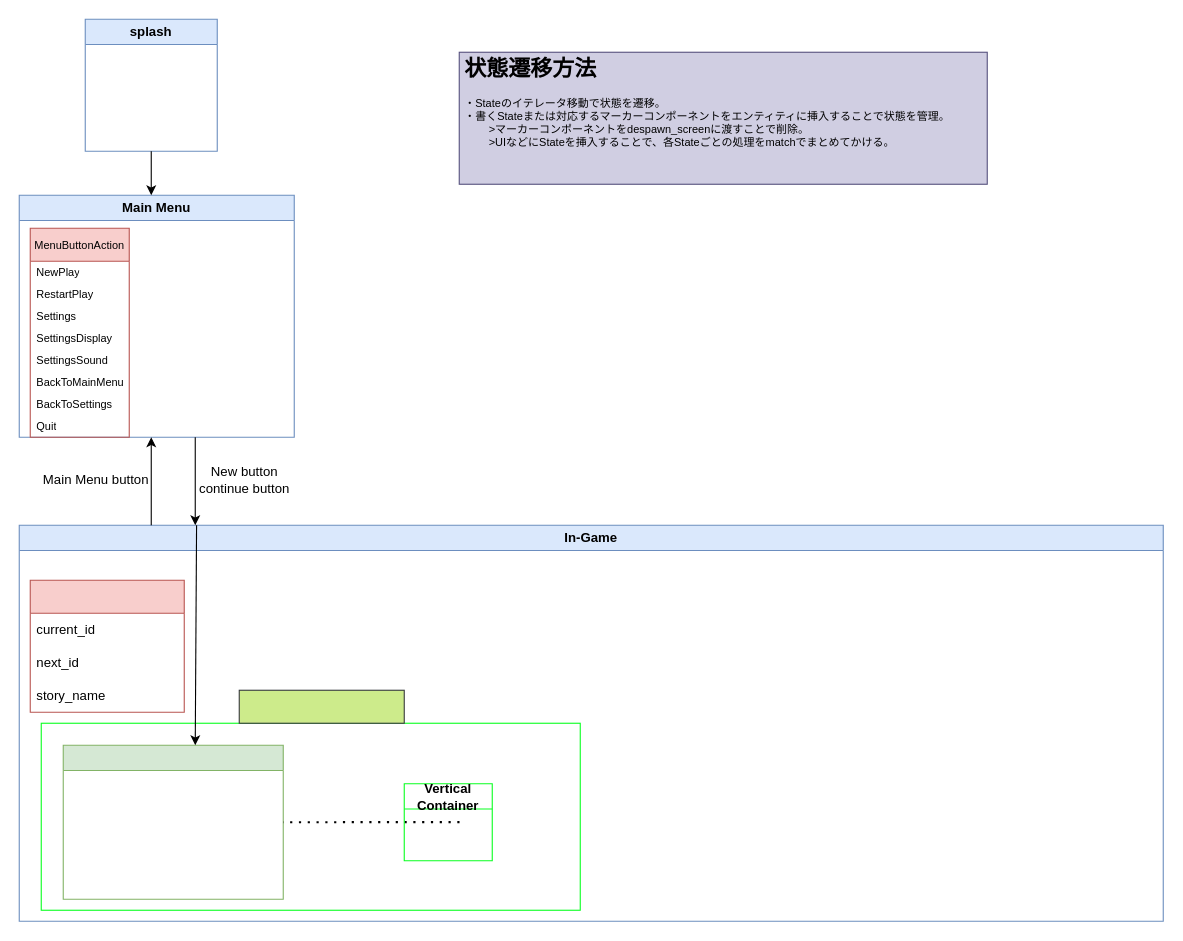
Some shapes in this 1183 by 941 pixel diagram are drawn without their labels. The shapes that lost their labels are listed below. From the top down, each one's box as (x1, y1, x2, y2) in pixels, then its label:
(29, 579, 184, 712): in_game_conditions
(238, 689, 404, 723): 03_InGame.drawio.png
(62, 744, 283, 899): new_game_loading
